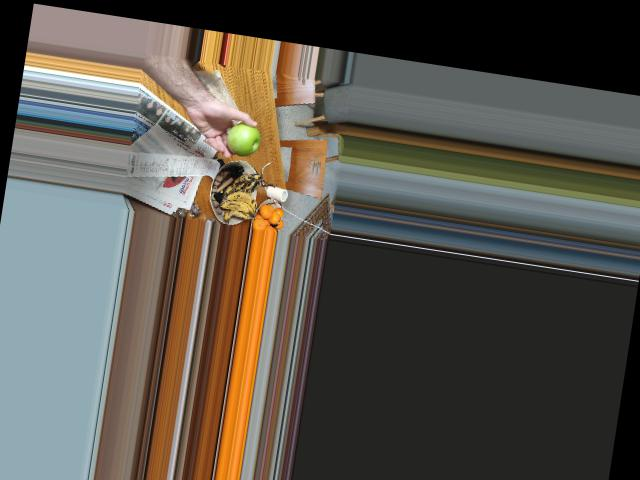apple: (226, 120, 262, 154)
